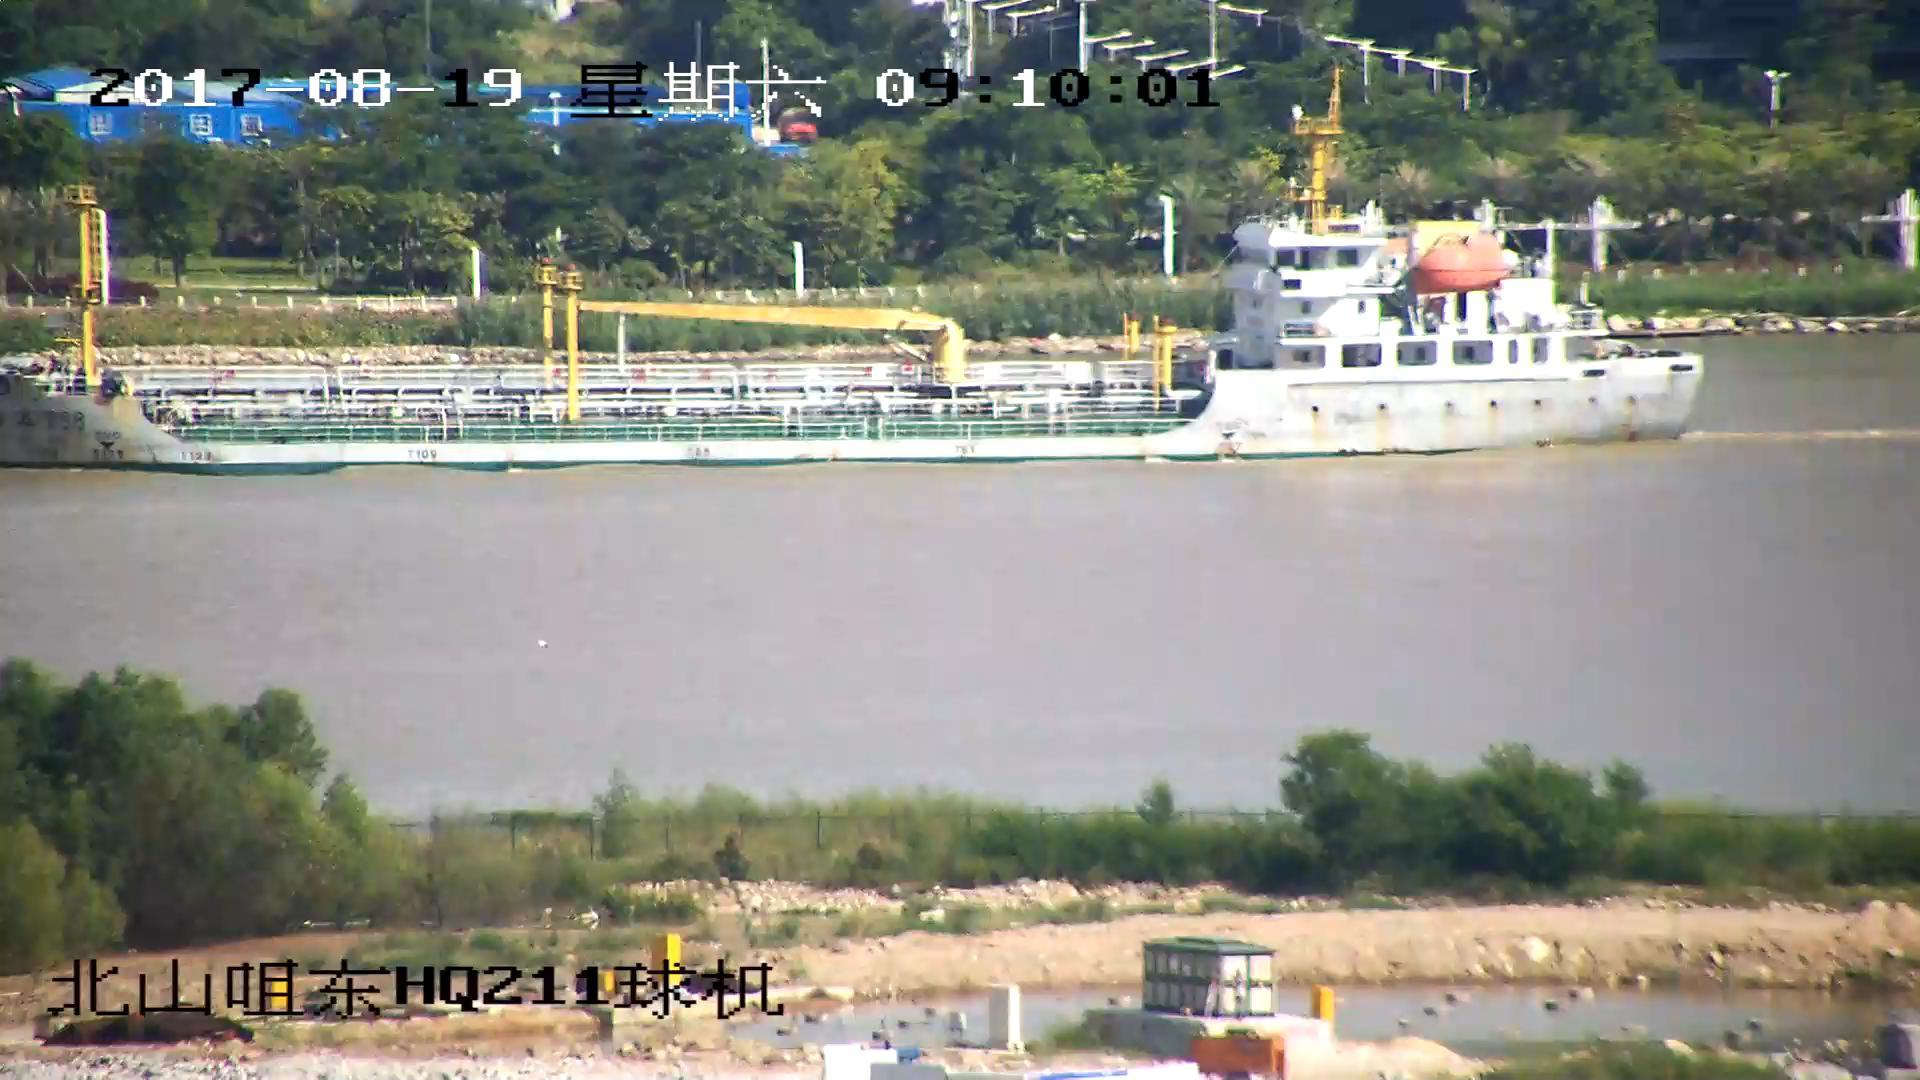Ship: (3, 133, 1722, 465)
